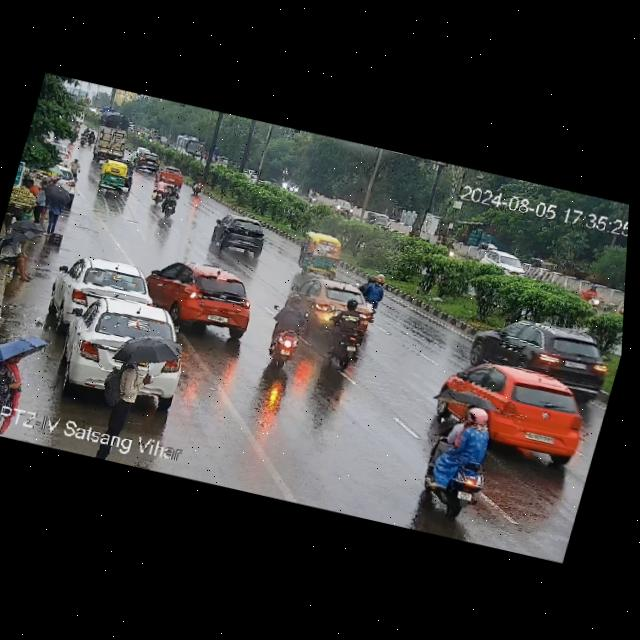bus: (172, 133, 206, 160)
car: (417, 348, 599, 471), (52, 285, 203, 414), (139, 253, 270, 343), (467, 308, 618, 386), (60, 287, 193, 367), (51, 249, 159, 325), (291, 272, 377, 342), (208, 209, 271, 258), (293, 230, 350, 283), (27, 159, 83, 200), (90, 156, 137, 200), (476, 245, 536, 276), (132, 149, 166, 174), (360, 208, 395, 230), (155, 164, 186, 187), (329, 197, 356, 219), (53, 142, 73, 163)
motorcycle: (410, 394, 508, 526), (313, 289, 377, 376), (264, 291, 314, 364), (354, 268, 386, 314), (160, 184, 181, 218), (147, 173, 169, 205), (580, 282, 607, 308), (189, 170, 205, 197), (440, 239, 458, 259), (66, 155, 81, 177), (85, 130, 97, 148), (78, 130, 89, 146), (68, 130, 80, 144), (84, 126, 89, 134)
person: (100, 350, 157, 432), (0, 347, 35, 410), (0, 235, 40, 280), (26, 176, 51, 224), (44, 203, 63, 234), (50, 177, 60, 186)
truck: (89, 126, 126, 161), (96, 110, 134, 133)
